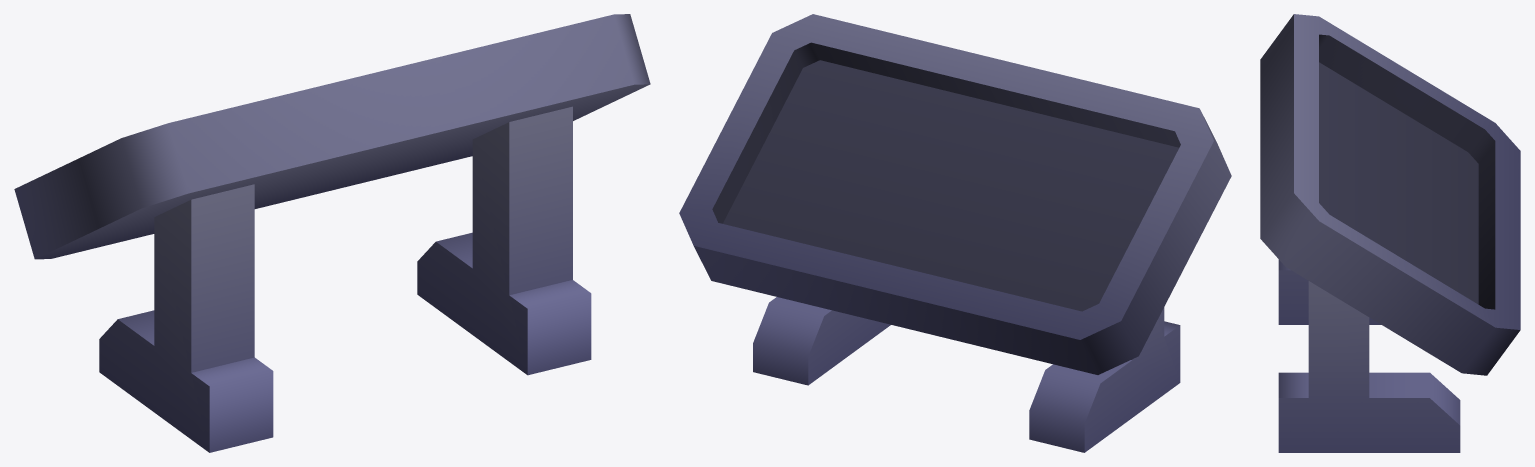
The model's file is screen-flat.glb.
3 views of the same model, side by side, from view 1: azimuth 30°, elevation 25°; view 2: azimuth 150°, elevation 25°; view 3: azimuth 270°, elevation 25° (orthographic). The views are drawn at different scales.
Parts seen in each view (by area): view 1: screen-flat; view 2: screen-flat; view 3: screen-flat.
Boxes of the visible parts, x1,y1,x2,y2 form: screen-flat: (14, 14, 650, 452); screen-flat: (679, 14, 1231, 452); screen-flat: (1260, 14, 1520, 452).
Size of the model in its own units: 1.2 by 0.7453 by 0.6448.
